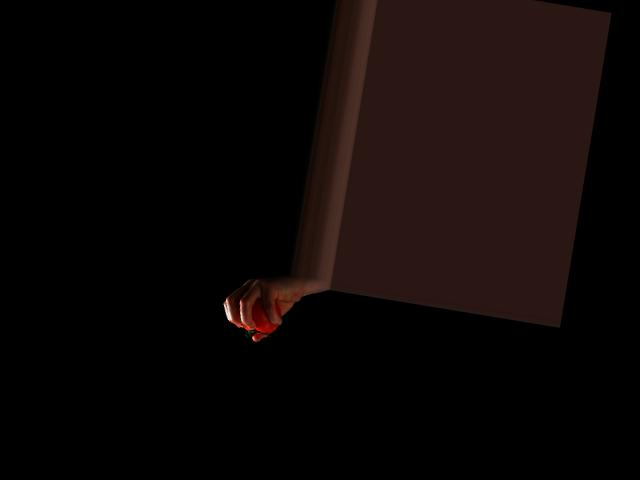tomato: (243, 294, 284, 335)
